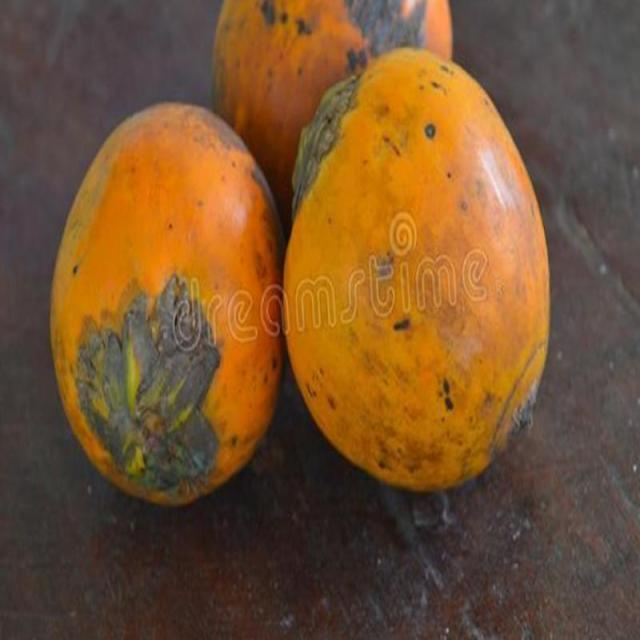good: (282, 47, 550, 496), (48, 102, 287, 511), (211, 0, 393, 227)
